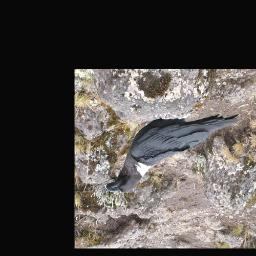Crow: (105, 112, 241, 193)
